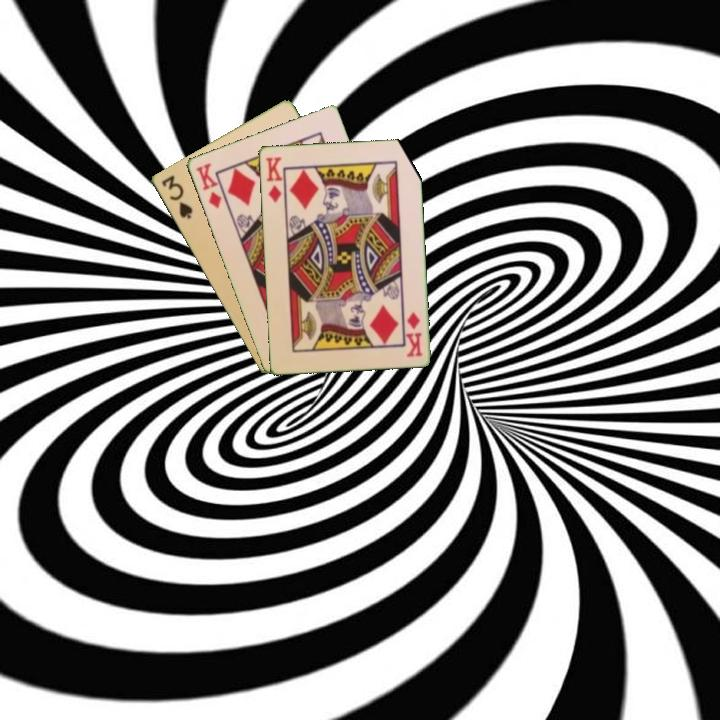3s: (158, 171, 195, 222)
Kd: (192, 159, 224, 211), (262, 153, 285, 205), (403, 308, 425, 360)
